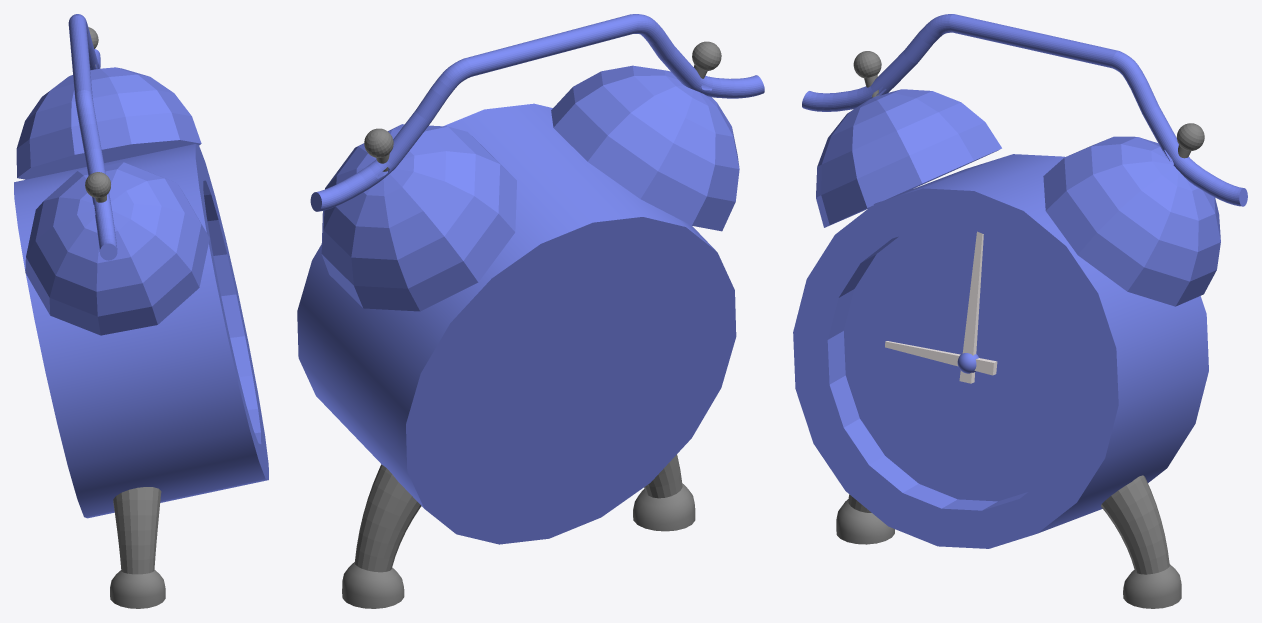
File: saat.fbx
3 views of the same model, side by side, from view 1: azimuth 30°, elevation 25°; view 2: azimuth 150°, elevation 25°; view 3: azimuth 270°, elevation 25° (orthographic). The views are drawn at different scales.
Visible parts, largest first — view 1: saat; view 2: saat; view 3: saat.
Part boxes in pixels (x1,y1,x2,y2): saat: (14,14,268,608); saat: (297,14,764,608); saat: (793,14,1247,608).
Size of the model in its own units: 1.93 by 3.06 by 2.47.
